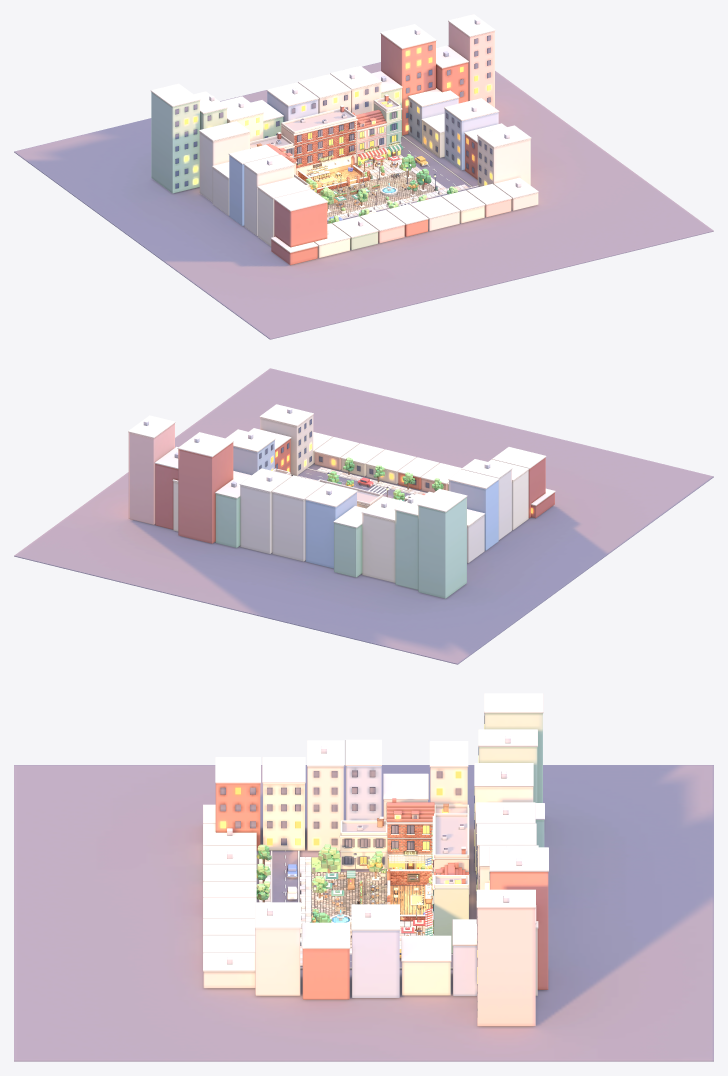
The picture shows the model from 3 angles, top to bottom: view 1: azimuth 30°, elevation 25°; view 2: azimuth 150°, elevation 25°; view 3: azimuth 270°, elevation 25°; orthographic projection. The views are drawn at different scales.
Visible parts, largest first — view 1: context, a1_0, a2_0, a3_0, a1_1, a2_1, a2_2, a0_0, a1_2; view 2: context, a2_2; view 3: context, a0_1, a1_0, a0_0, a1_1, a3_0, a2_2, a1_2, a2_0, a0_2.
Part boxes in pixels (bbox=[...]): context: bbox=[14, 14, 713, 339]; a1_0: bbox=[281, 108, 357, 186]; a2_0: bbox=[337, 105, 389, 179]; a3_0: bbox=[373, 94, 470, 188]; a1_1: bbox=[314, 171, 437, 216]; a2_1: bbox=[349, 163, 410, 196]; a2_2: bbox=[327, 183, 479, 223]; a0_0: bbox=[250, 122, 298, 174]; a1_2: bbox=[332, 188, 386, 217]; context: bbox=[14, 368, 713, 664]; a2_2: bbox=[291, 469, 410, 501]; context: bbox=[14, 693, 713, 1061]; a0_1: bbox=[339, 798, 405, 884]; a1_0: bbox=[387, 813, 469, 913]; a0_0: bbox=[386, 802, 469, 884]; a1_1: bbox=[311, 869, 405, 944]; a3_0: bbox=[300, 875, 469, 969]; a2_2: bbox=[272, 850, 345, 938]; a1_2: bbox=[283, 873, 344, 911]; a2_0: bbox=[400, 846, 469, 935]; a0_2: bbox=[285, 857, 345, 884].
Bounding box in the file's own units: 120 × 24.15 × 120.
418 materials, 7 textured.
